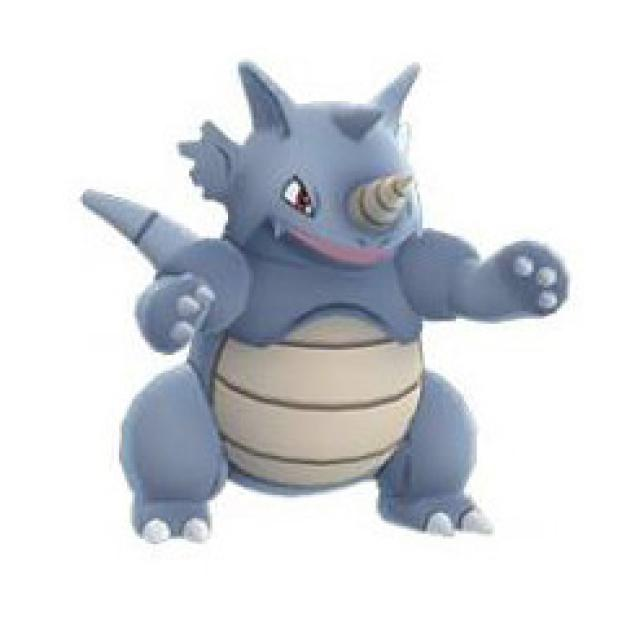Rhydon: (120, 60, 483, 548)
